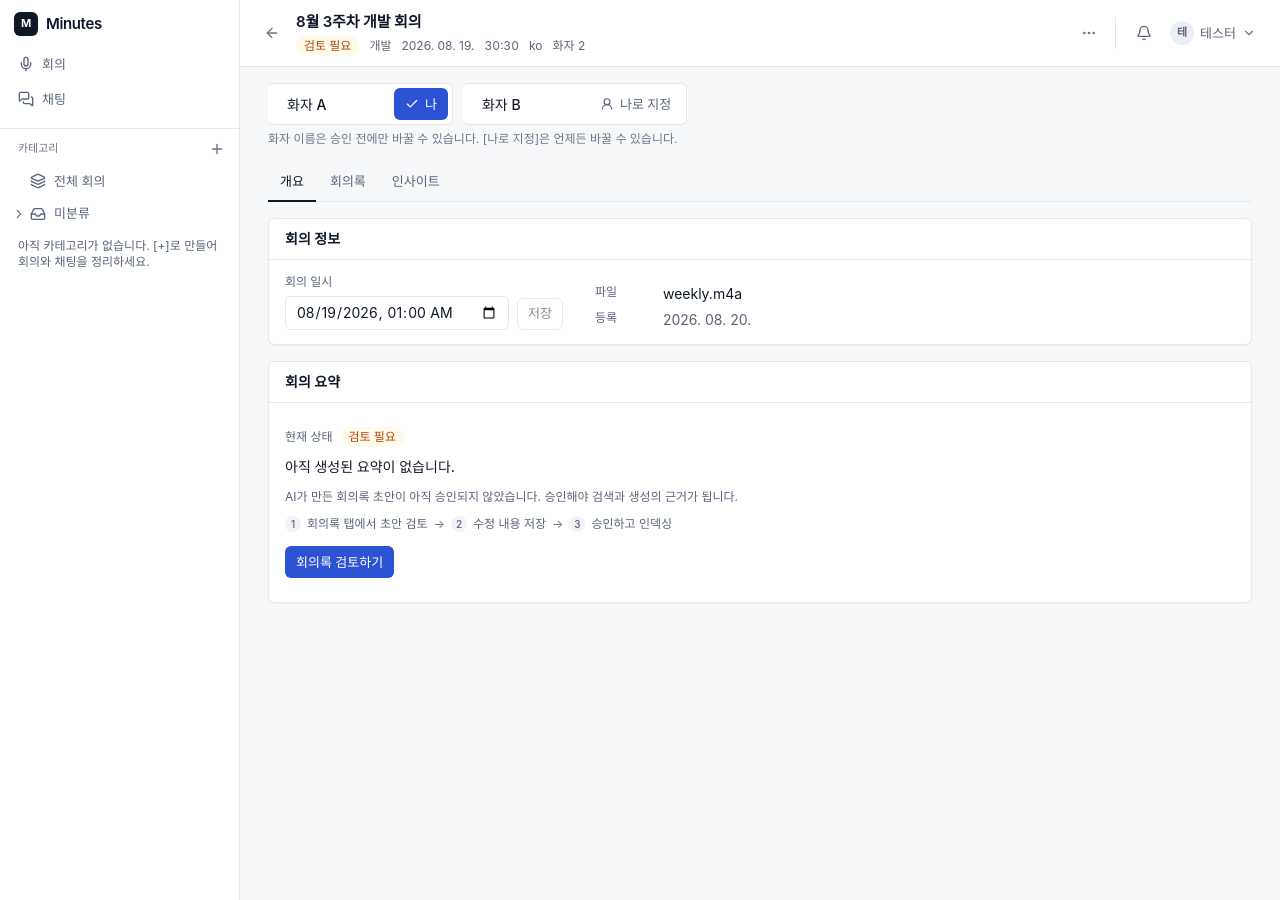
Scenario: 승인 전 개요 › 검토하기를 누르면 회의록 탭으로 넘어간다
The image size is (1280, 900).
Click the button "회의록 검토하기": (340, 562) [285,546,394,578]
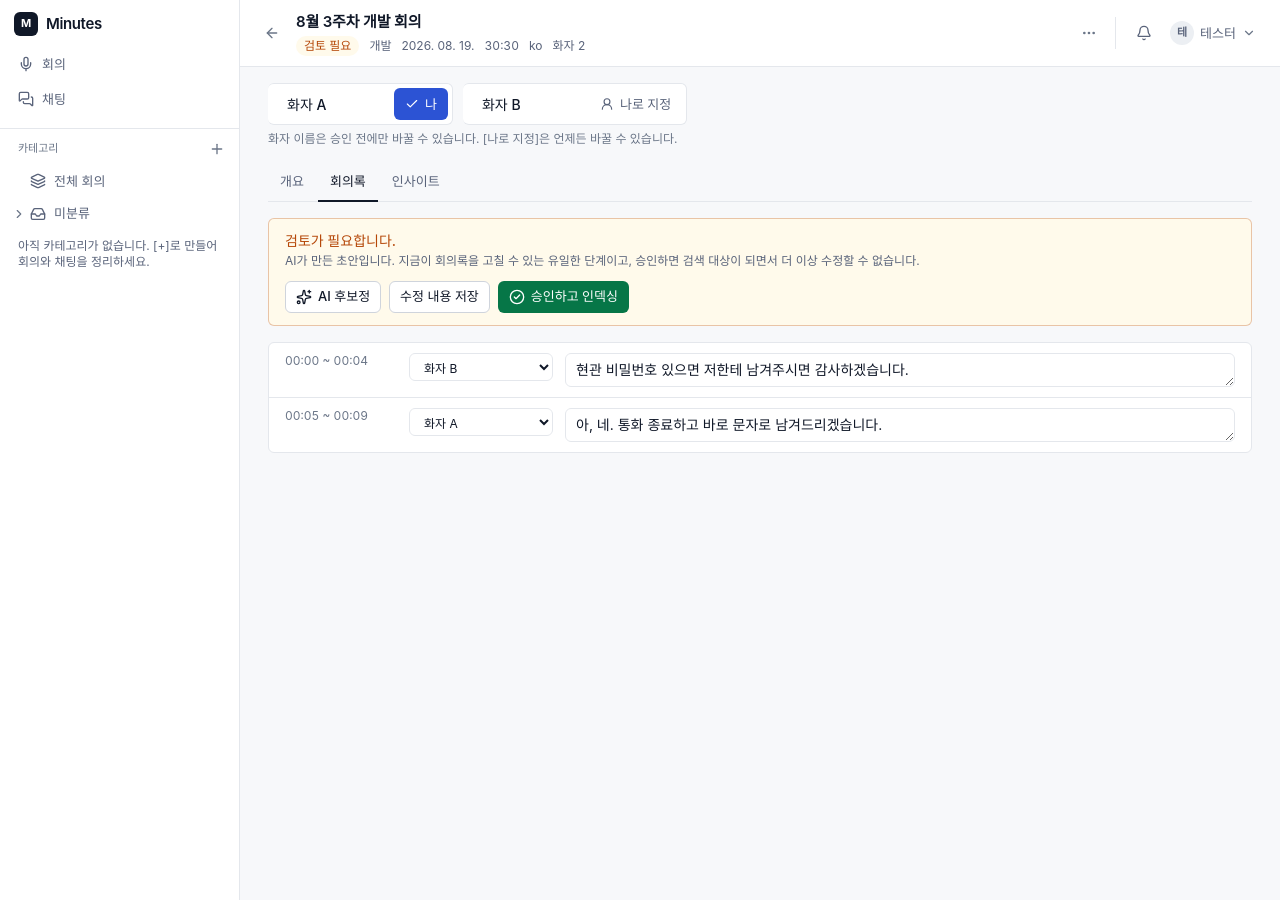
Check: the text box named "발화 0 내용" is shown, box [565,353,1235,387]
